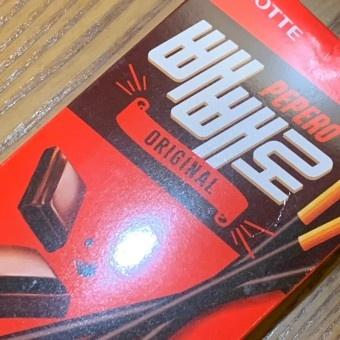snack: (0, 0, 340, 340)
